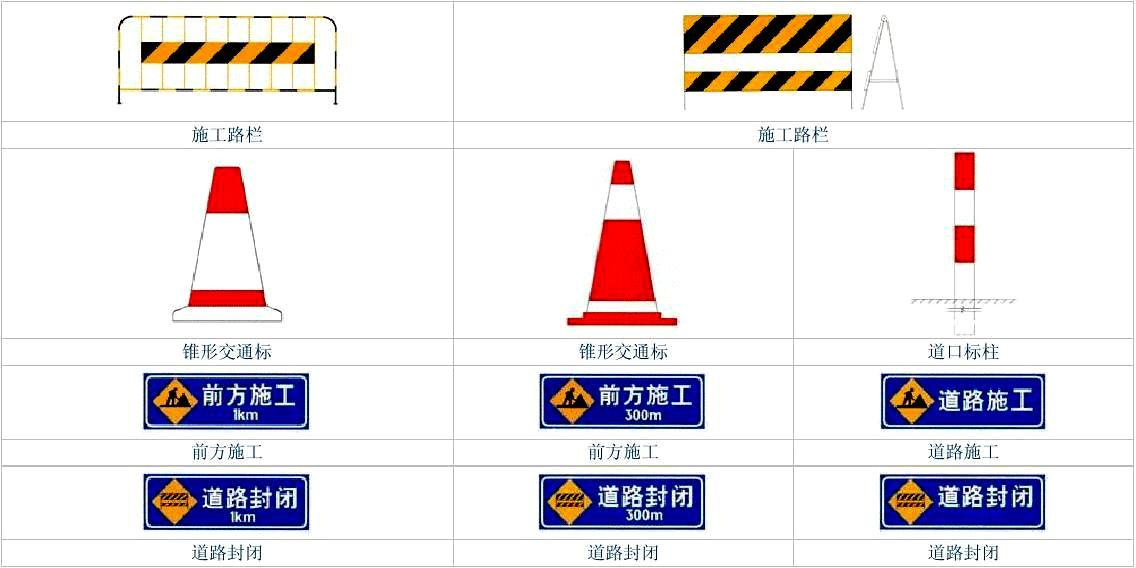sign: (141, 376, 309, 434), (538, 475, 705, 530), (881, 374, 1044, 429), (880, 477, 1047, 530), (146, 476, 307, 528), (538, 375, 702, 426)
